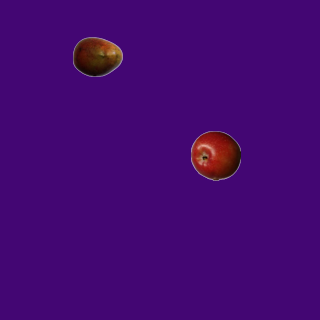Apple Braeburn: (190, 130, 240, 180)
Mango Red: (72, 31, 122, 81)
